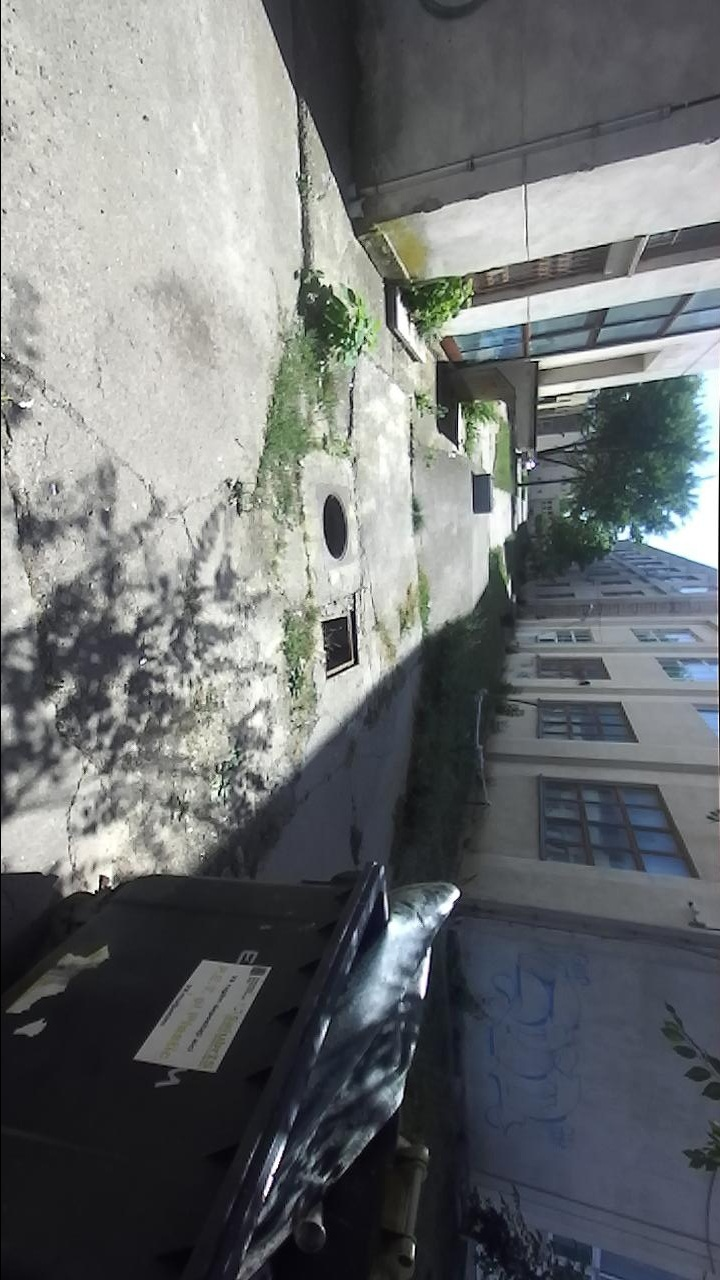drain: (316, 609, 359, 686), (319, 487, 356, 567)
